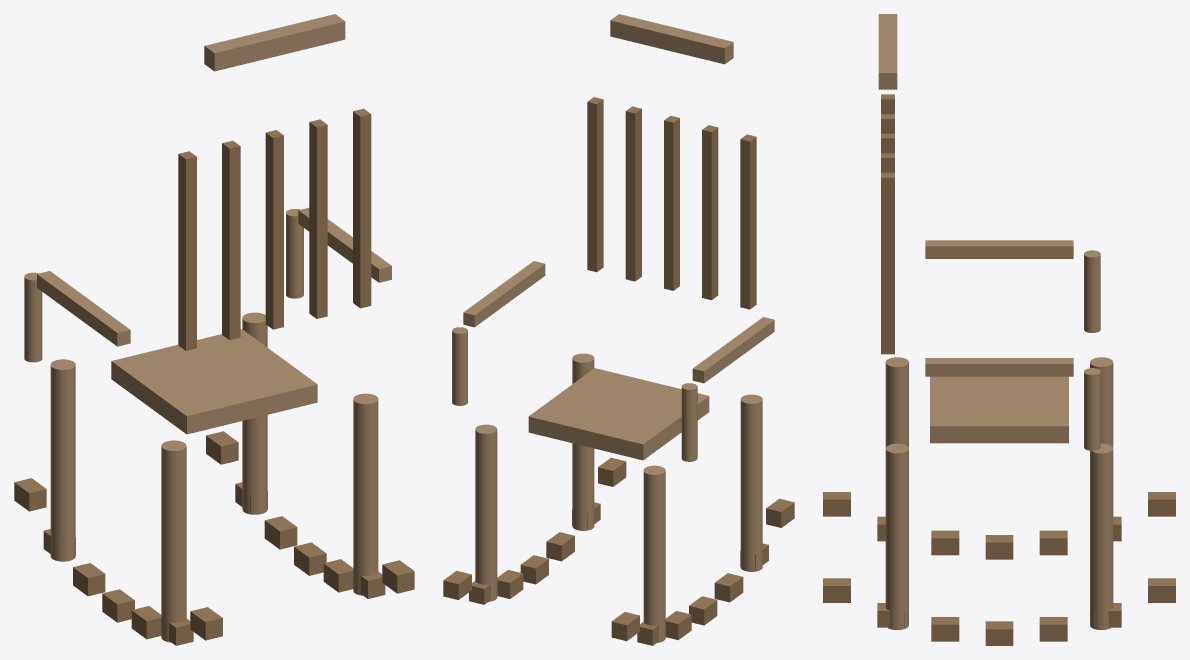
The model's file is AnastasiaRockingChair.fbx.
3 views of the same model, side by side, from view 1: azimuth 30°, elevation 25°; view 2: azimuth 150°, elevation 25°; view 3: azimuth 270°, elevation 25° (orthographic). The views are drawn at different scales.
Visible parts, largest first — view 1: AnastasiaRockingChair; view 2: AnastasiaRockingChair; view 3: AnastasiaRockingChair.
Part boxes in pixels (x1,y1,x2,y2): AnastasiaRockingChair: [14, 14, 414, 645]; AnastasiaRockingChair: [443, 14, 794, 645]; AnastasiaRockingChair: [823, 14, 1175, 645].
Size of the model in its own units: 63.6 by 132 by 76.
